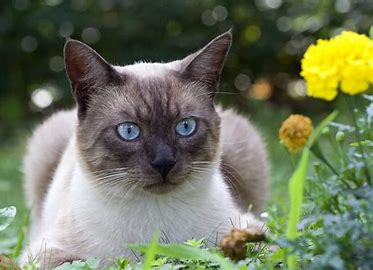cat: (24, 31, 287, 247)
